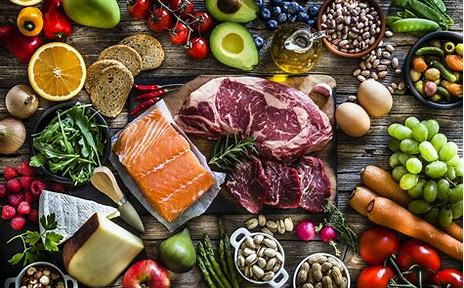inorganic: (185, 93, 324, 149), (343, 170, 440, 232), (113, 128, 197, 188), (395, 122, 452, 196), (232, 157, 325, 197), (371, 238, 431, 285), (83, 56, 160, 92), (138, 3, 202, 46), (215, 11, 259, 63), (11, 6, 69, 45), (152, 233, 205, 275), (2, 162, 36, 223), (48, 122, 91, 162), (340, 98, 386, 135), (85, 225, 114, 280), (238, 220, 279, 258), (300, 215, 349, 246), (67, 0, 119, 29), (31, 57, 75, 91), (4, 91, 28, 151), (41, 193, 90, 221), (414, 56, 458, 85), (325, 5, 367, 35), (196, 238, 235, 270), (9, 233, 61, 256), (355, 58, 404, 82), (127, 261, 178, 283), (263, 0, 307, 22), (397, 2, 435, 27), (303, 260, 336, 284), (32, 270, 55, 284), (134, 95, 158, 107)
organic: (33, 106, 109, 176), (404, 37, 464, 108), (314, 3, 393, 46), (85, 171, 150, 205), (281, 24, 324, 75)
